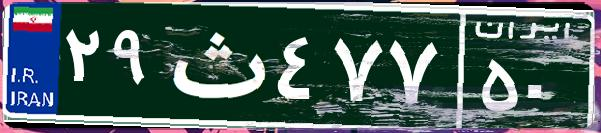0: (525, 38, 570, 115)
2: (57, 26, 110, 107)
4: (273, 28, 330, 110)
5: (475, 38, 525, 113)
7: (385, 28, 445, 110), (330, 28, 385, 110)
9: (110, 28, 158, 105)
ث: (158, 15, 273, 115)
